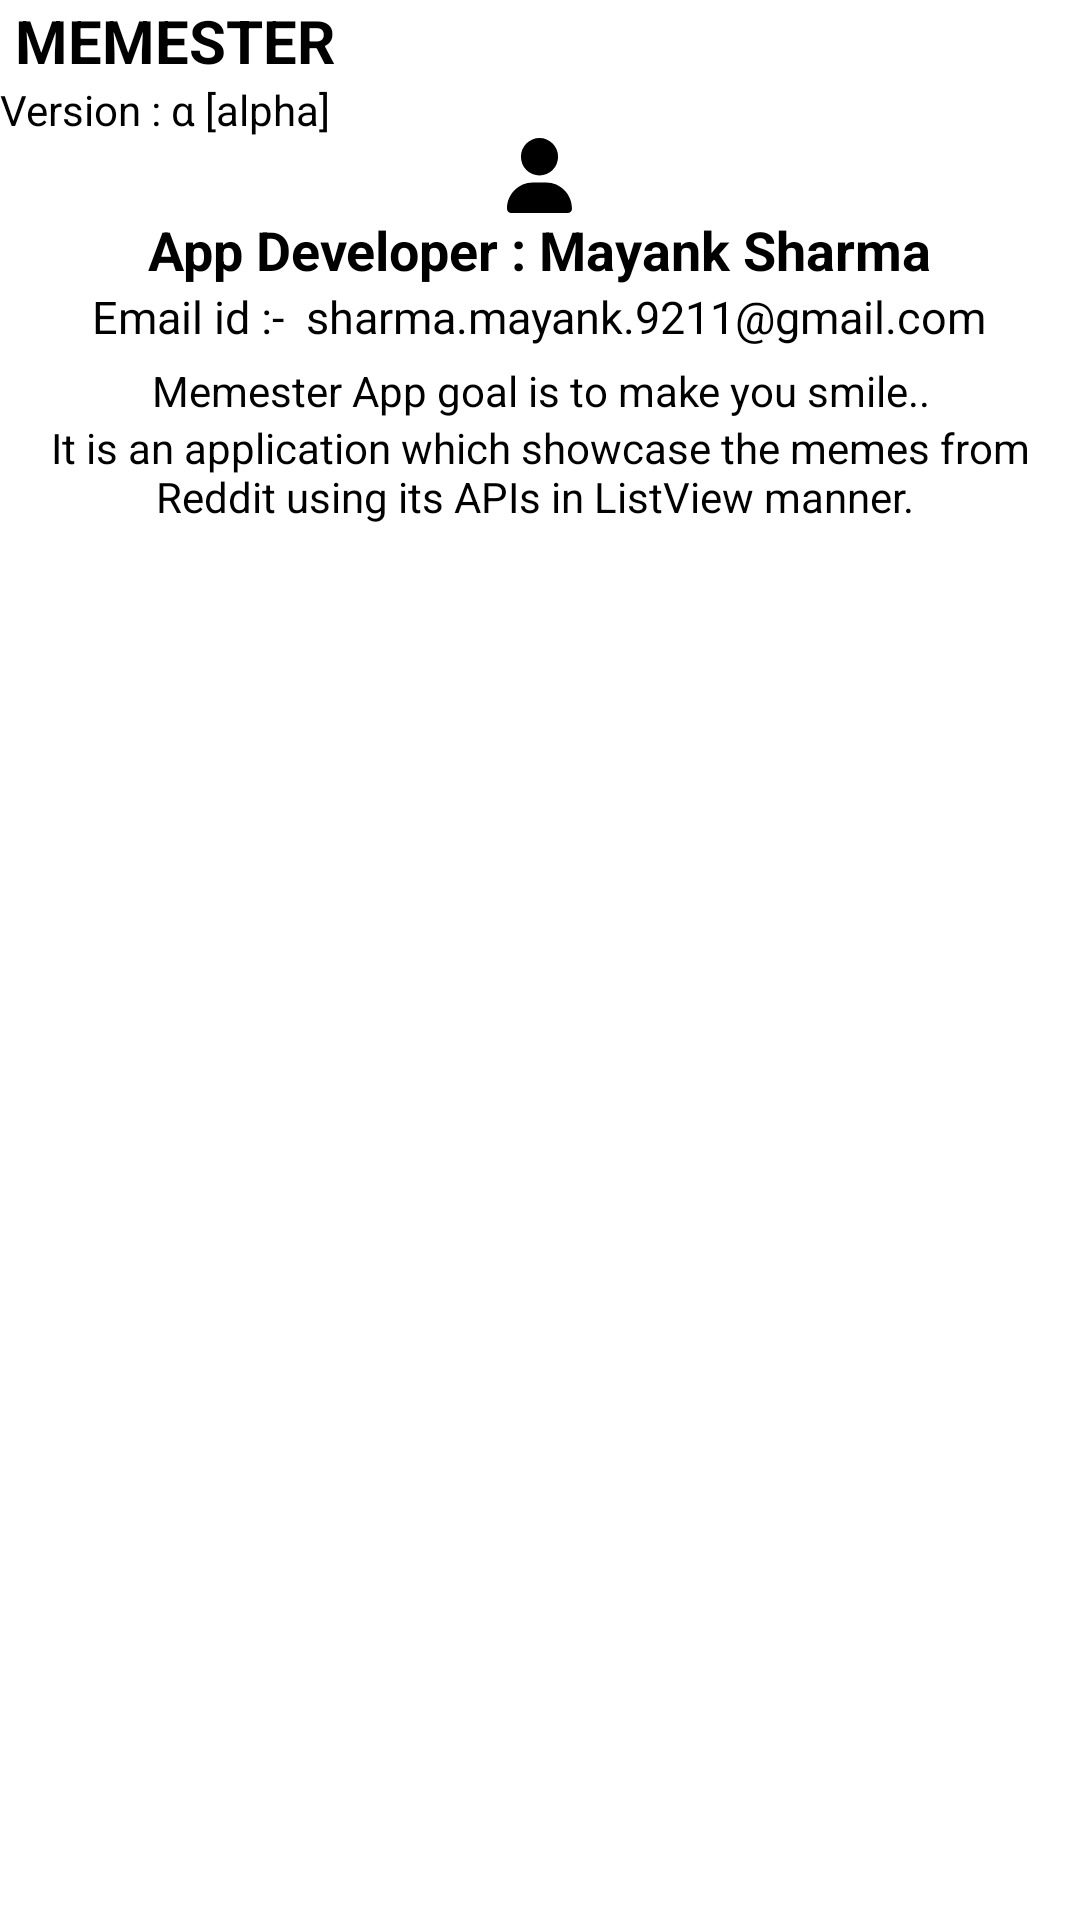

Screen size 1080w x 1920h. Icon name, then its box in pixels as box(x1, y1, x2, y2):
user: box(507, 138, 572, 213)
